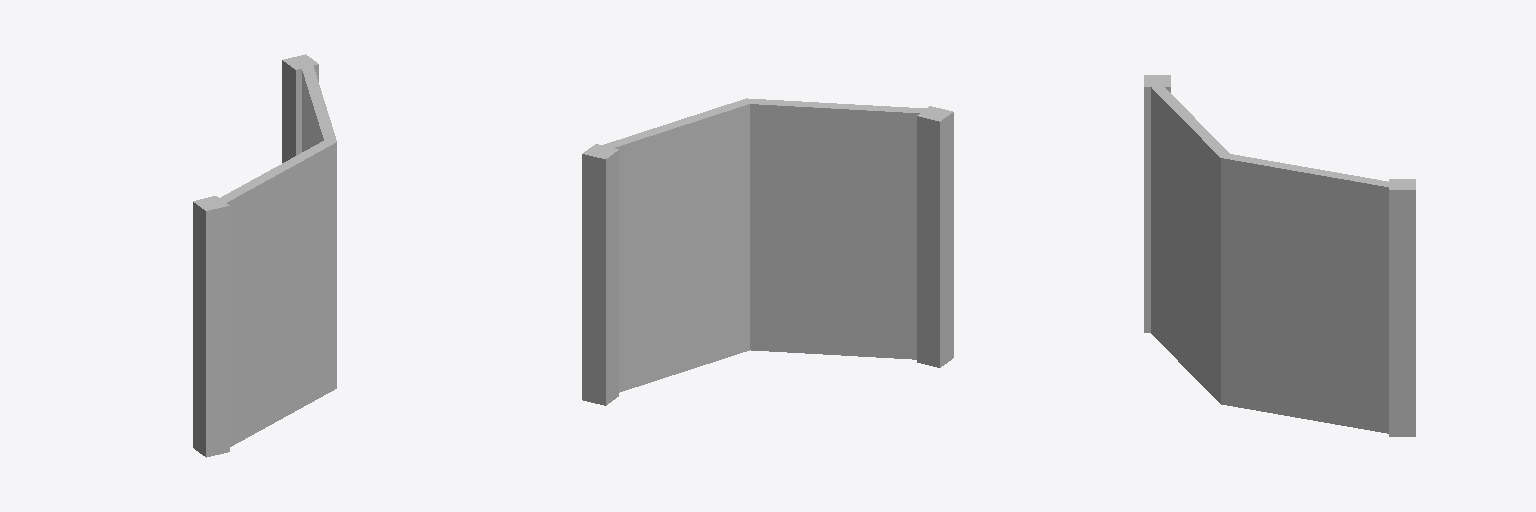
Rendered from wallWoodCornerEdge.obj.
The picture shows the model from 3 angles: view 1: azimuth 30°, elevation 25°; view 2: azimuth 150°, elevation 25°; view 3: azimuth 270°, elevation 25°; orthographic projection.
Visible parts, largest first — view 1: wallWoodCornerEdge; view 2: wallWoodCornerEdge; view 3: wallWoodCornerEdge.
Part boxes in pixels (left/top/right/bottom): wallWoodCornerEdge: left=193, top=54, right=336, bottom=457; wallWoodCornerEdge: left=582, top=98, right=953, bottom=405; wallWoodCornerEdge: left=1144, top=75, right=1415, bottom=436.
Bounding box in the file's own units: 1 × 1 × 1.